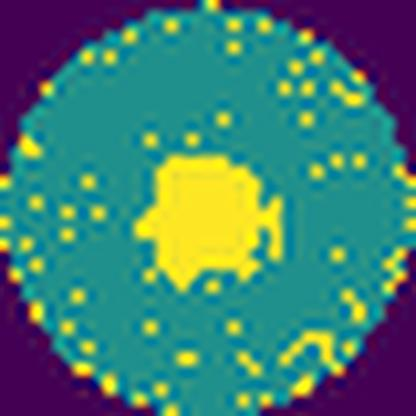Center: (132, 156, 282, 290)
